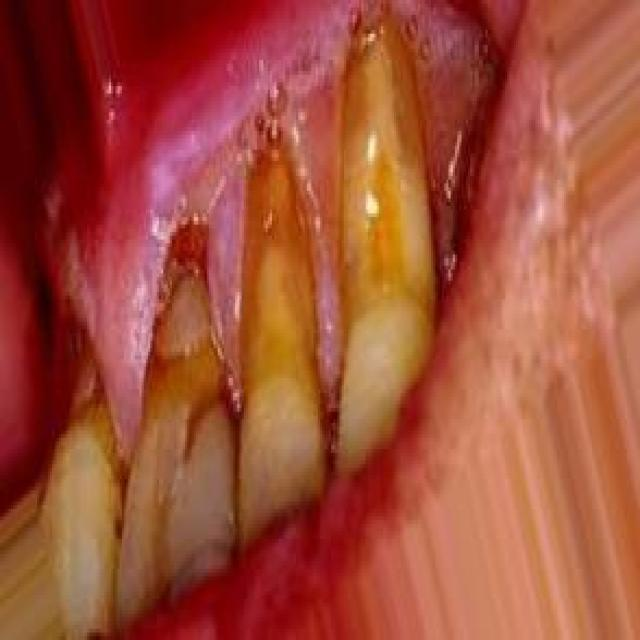caries: (141, 218, 235, 392)
